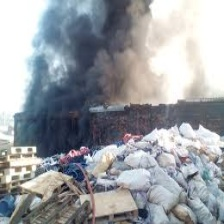smoke: (23, 1, 152, 144)
